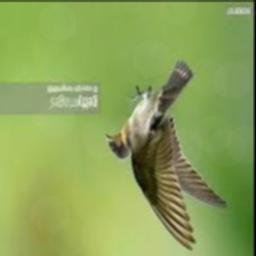Swallow: (104, 61, 228, 250)
